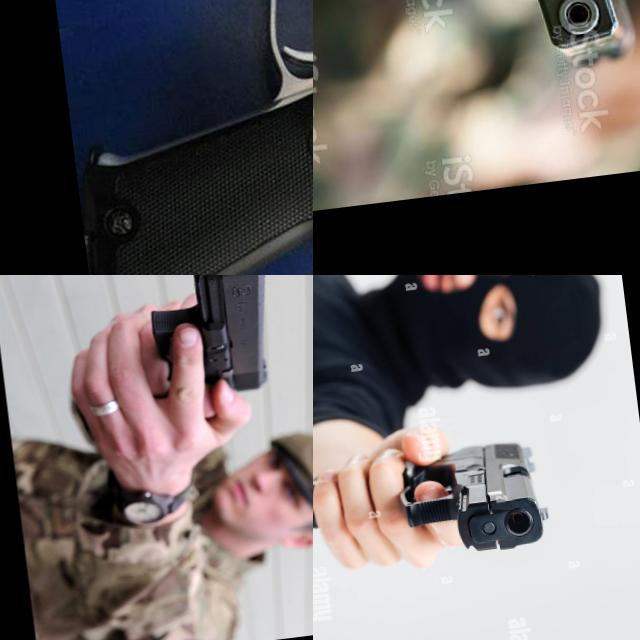handgun: (41, 0, 313, 275), (313, 429, 560, 581), (478, 0, 640, 180), (113, 275, 288, 406)
